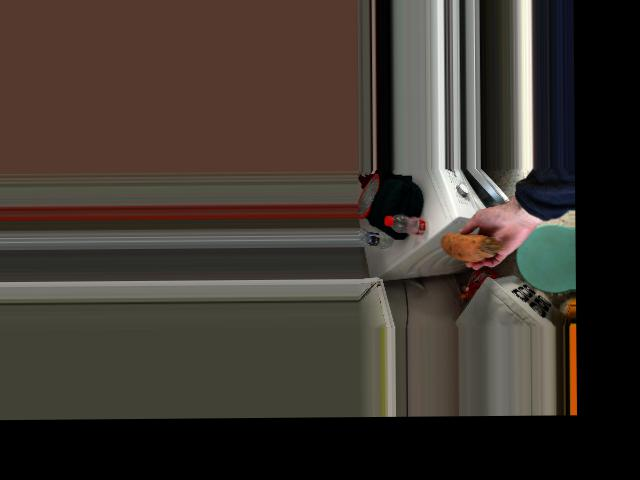sweet_potato: (427, 233, 495, 259)
